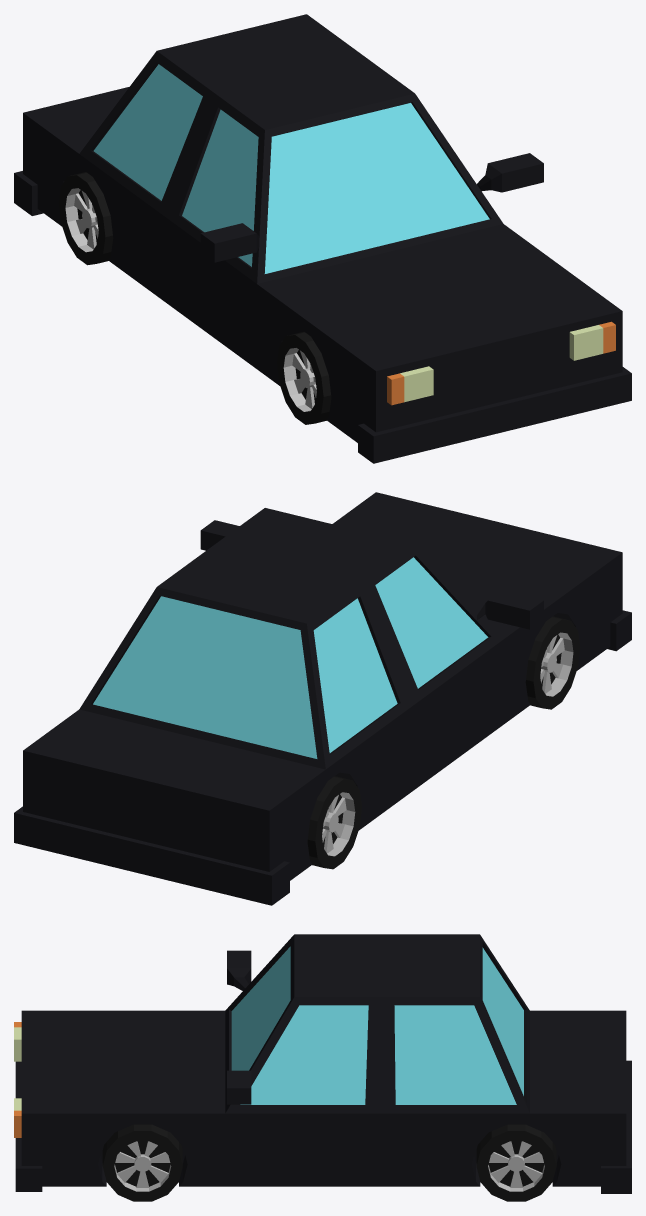
File: black car.fbx
3 views of the same model, one above another, from view 1: azimuth 30°, elevation 25°; view 2: azimuth 150°, elevation 25°; view 3: azimuth 270°, elevation 25° (orthographic). The views are drawn at different scales.
Visible parts, largest first — view 1: Cube, Cylinder.001, Cylinder.003, Cube.002, Cube.001; view 2: Cube, Cylinder.001, Cylinder.003, Cube.002; view 3: Cube, Cylinder.003, Cylinder.001, Cube.002, Cube.001.
Boxes of the visible parts, x1,y1,x2,y2 form: Cube: [14, 14, 631, 463]; Cylinder.001: [277, 332, 331, 424]; Cylinder.003: [58, 172, 113, 265]; Cube.002: [200, 153, 543, 262]; Cube.001: [387, 321, 615, 405]; Cube: [14, 492, 631, 905]; Cylinder.001: [525, 616, 580, 709]; Cylinder.003: [307, 776, 361, 869]; Cube.002: [200, 520, 543, 629]; Cube: [15, 934, 631, 1193]; Cylinder.003: [476, 1124, 556, 1201]; Cylinder.001: [102, 1124, 182, 1201]; Cube.002: [227, 950, 251, 1104]; Cube.001: [14, 1022, 21, 1137].
Size of the model in its own units: 341 by 211 by 647.
